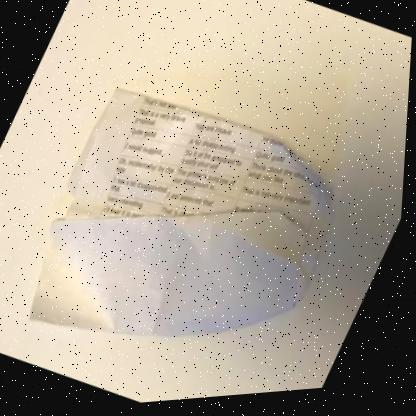Paper: (34, 90, 334, 338)
